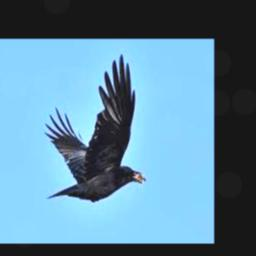Crow: (46, 54, 145, 201)
